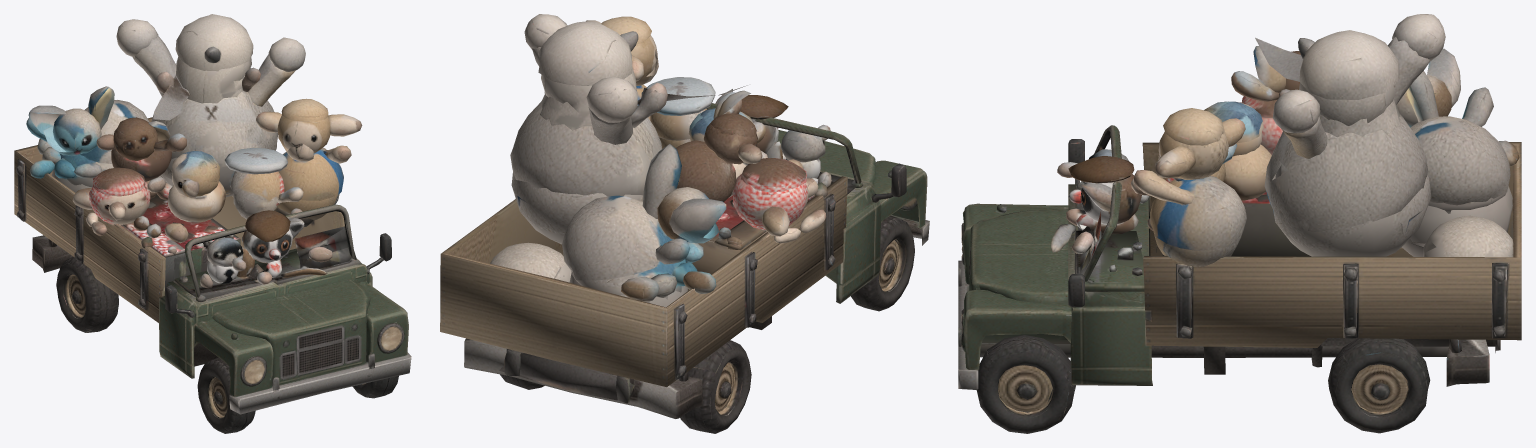
Rendered from tiermobil.glb.
3 views of the same model, side by side, from view 1: azimuth 30°, elevation 25°; view 2: azimuth 150°, elevation 25°; view 3: azimuth 270°, elevation 25° (orthographic). The views are drawn at different scales.
Bounding box in the file's own units: 0.6094 × 0.7363 × 1.
1 material, 1 textured.
